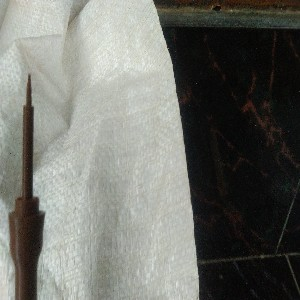solder: (7, 73, 47, 300)
